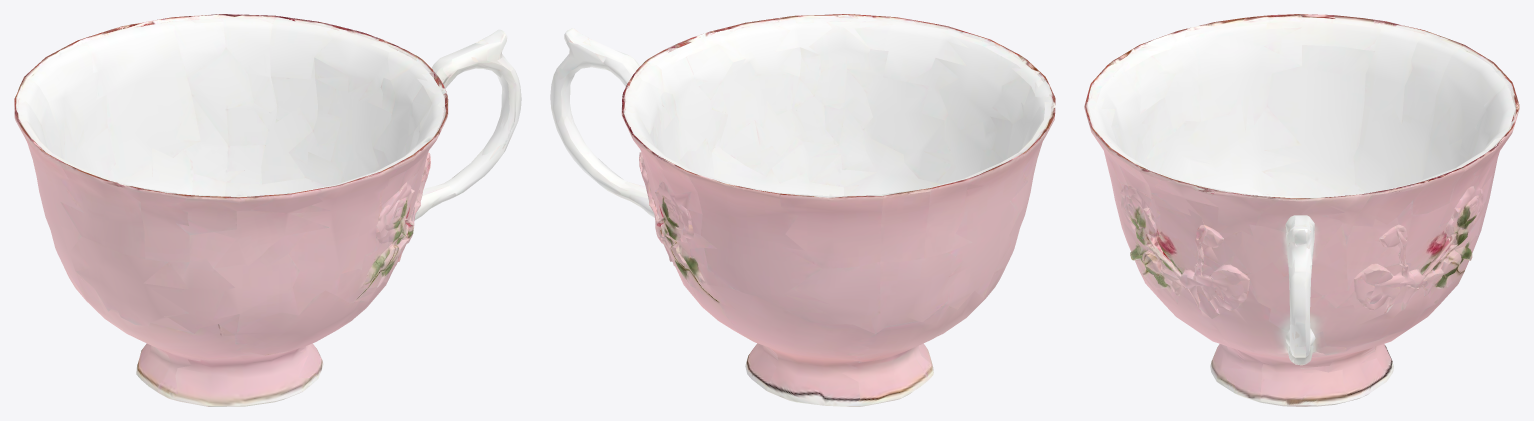
Rendered from kitchen-teacup-08.glb.
3 views of the same model, side by side, from view 1: azimuth 30°, elevation 25°; view 2: azimuth 150°, elevation 25°; view 3: azimuth 270°, elevation 25° (orthographic).
Size of the model in its own units: 1.9 by 1.04 by 1.51.
Materials: 1 (1 with a texture image).
